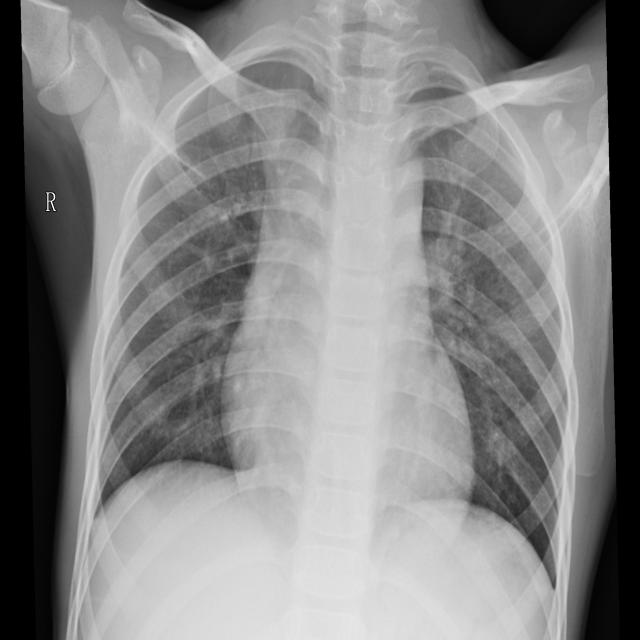no-pneumonia: (85, 37, 333, 512), (384, 50, 572, 573)
